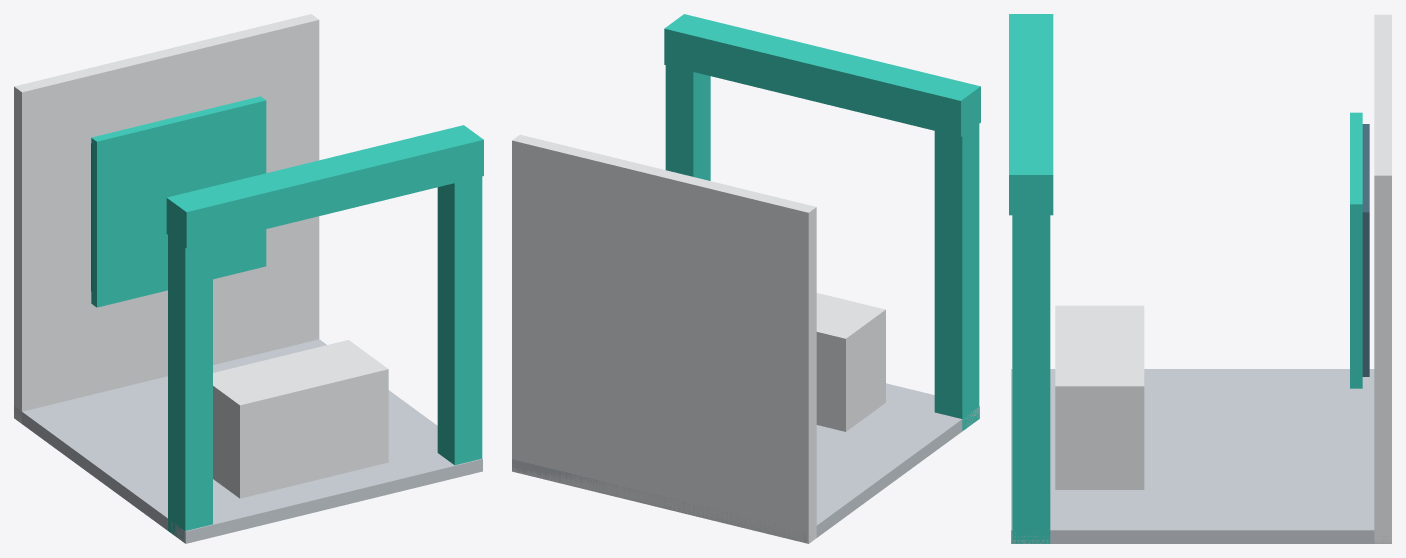
3 renders of one model, left to right at view 1: azimuth 30°, elevation 25°; view 2: azimuth 150°, elevation 25°; view 3: azimuth 270°, elevation 25°, orthographic. The views are drawn at different scales.
Parts seen in each view (by area): view 1: Exhibition Booth Concept; view 2: Exhibition Booth Concept; view 3: Exhibition Booth Concept.
Boxes of the visible parts, box(x1,y1,x2,y2) form: Exhibition Booth Concept: box(14, 14, 483, 543); Exhibition Booth Concept: box(512, 14, 980, 543); Exhibition Booth Concept: box(1009, 14, 1391, 543).
Bounding box in the file's own units: 3 × 3.2 × 3.01.
